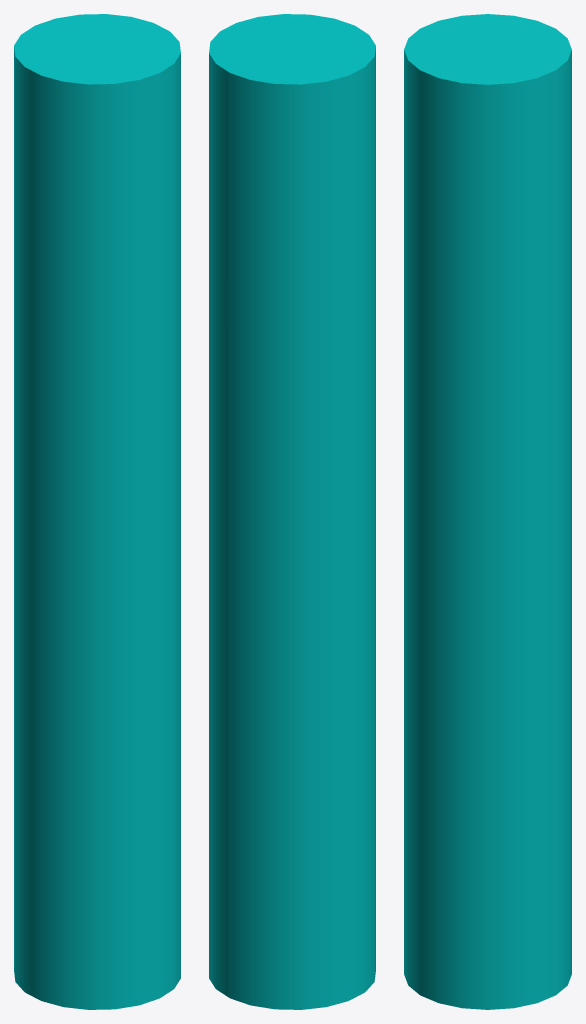
3 renders of one model, left to right at view 1: azimuth 30°, elevation 25°; view 2: azimuth 150°, elevation 25°; view 3: azimuth 270°, elevation 25°, orthographic.
Parts seen in each view (by area): view 1: SM_Mace_Mithril_1H_01_LOD0; view 2: SM_Mace_Mithril_1H_01_LOD0; view 3: SM_Mace_Mithril_1H_01_LOD0.
Part boxes in pixels (x1,y1,x2,y2): SM_Mace_Mithril_1H_01_LOD0: [14, 14, 180, 1009]; SM_Mace_Mithril_1H_01_LOD0: [209, 14, 375, 1009]; SM_Mace_Mithril_1H_01_LOD0: [404, 14, 571, 1009].
Size of the model in its own units: 0.046 by 0.2798 by 0.046.
